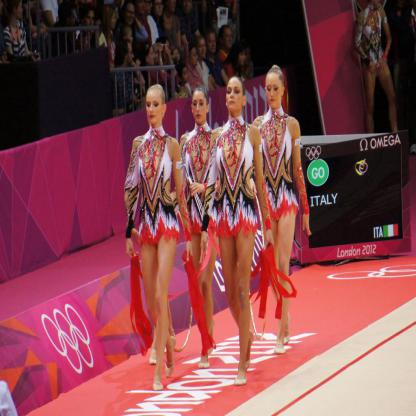face: (147, 94, 163, 124), (267, 77, 282, 108), (227, 82, 243, 109), (194, 96, 208, 123), (224, 32, 234, 49), (207, 37, 217, 53), (127, 8, 136, 25), (127, 46, 134, 66), (148, 49, 156, 65), (191, 50, 199, 66), (88, 15, 95, 32), (138, 1, 146, 15), (156, 2, 164, 16), (164, 43, 171, 59), (199, 42, 206, 58), (111, 12, 117, 30), (168, 1, 177, 13), (17, 4, 24, 18), (155, 49, 162, 63), (239, 52, 246, 66), (185, 1, 193, 13), (245, 49, 251, 65), (146, 1, 153, 14), (71, 11, 77, 26), (183, 70, 189, 83), (128, 33, 134, 45), (136, 58, 141, 72), (174, 52, 181, 62)
